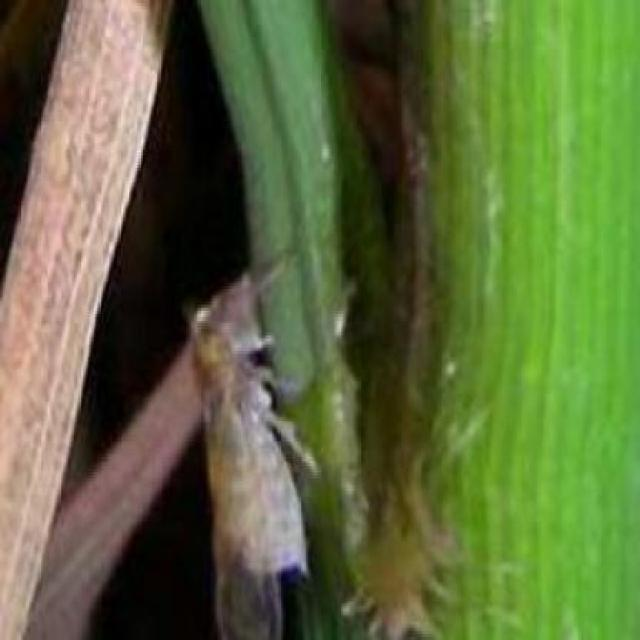brown-planthopper: (182, 295, 303, 640)
